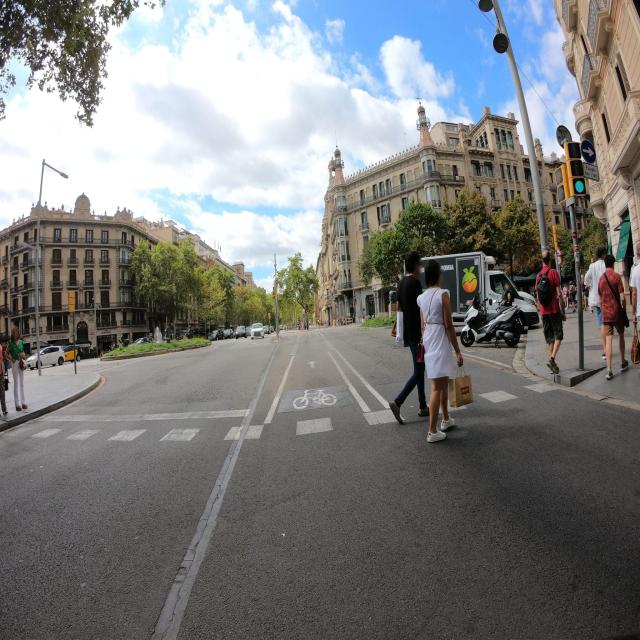bike: (460, 289, 521, 348)
car: (26, 346, 65, 369), (75, 342, 95, 360), (250, 322, 264, 338), (235, 324, 247, 338), (214, 328, 226, 340), (223, 327, 232, 339), (262, 324, 270, 334)
